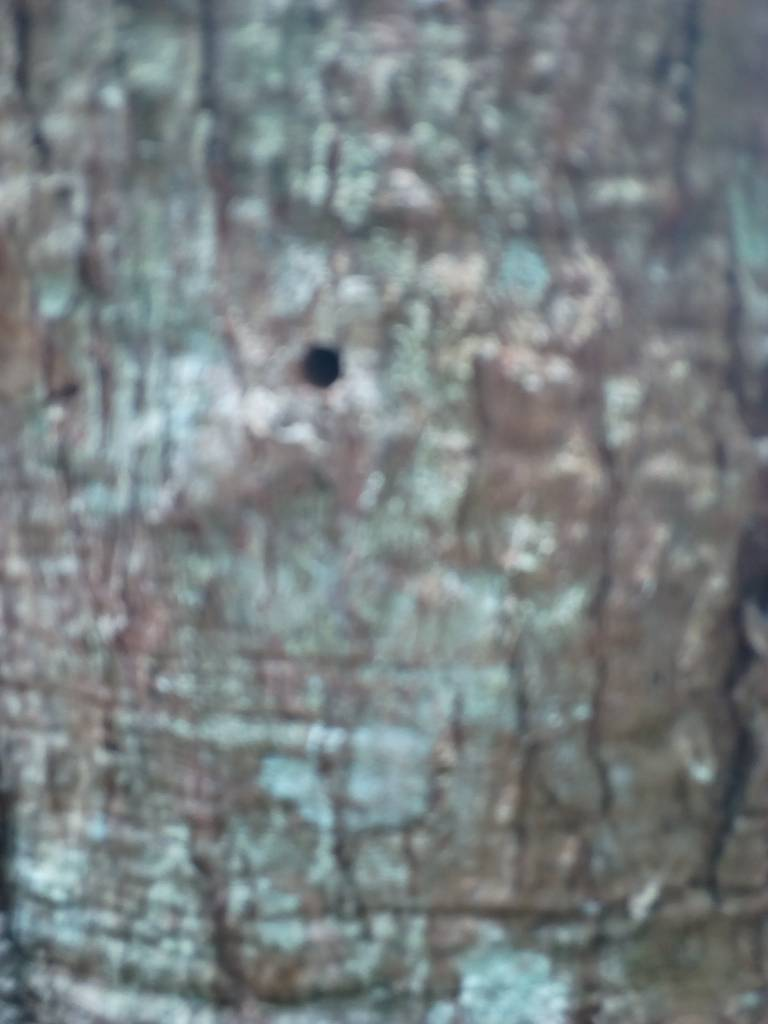Apate terebrans: (277, 313, 374, 432)
